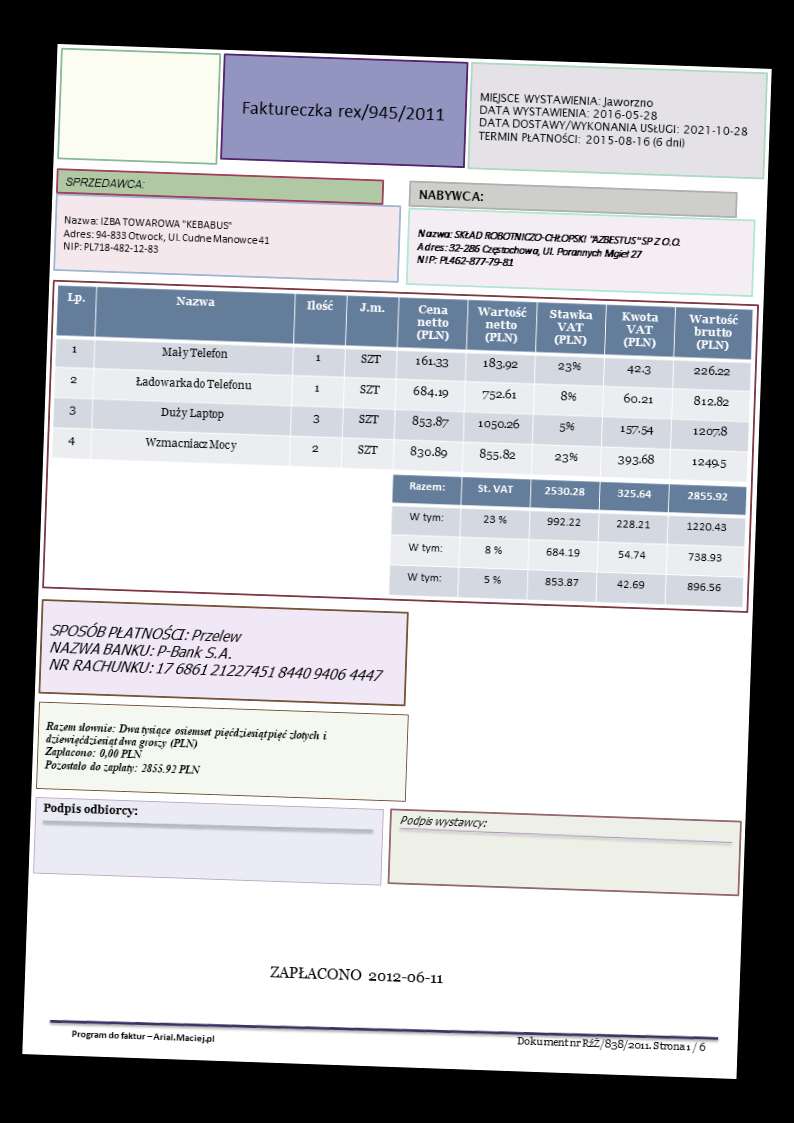Table: (50, 283, 753, 484), (388, 473, 748, 609)
TextBox: (47, 621, 386, 687), (41, 718, 329, 782), (476, 89, 751, 154), (413, 226, 682, 276), (59, 212, 272, 259), (238, 97, 445, 127), (515, 1033, 708, 1057), (265, 964, 445, 987), (69, 1027, 217, 1045), (40, 800, 141, 820), (398, 812, 487, 832), (62, 173, 147, 192), (416, 185, 485, 205)
